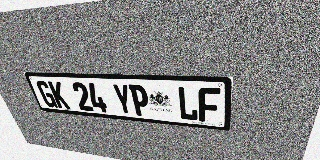2: (71, 82, 94, 111)
4: (85, 83, 108, 113)
F: (198, 87, 220, 123)
G: (35, 81, 58, 108)
K: (47, 81, 71, 109)
L: (177, 86, 198, 121)
P: (128, 84, 151, 117)
Y: (111, 84, 134, 115)
